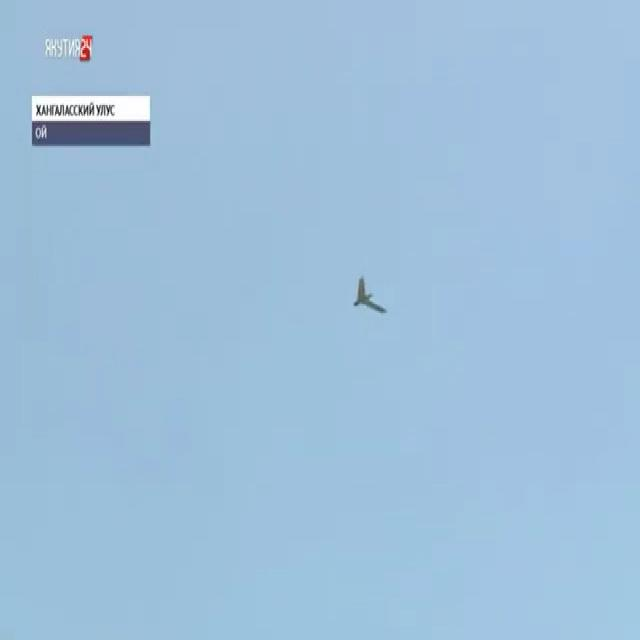drone: (341, 266, 390, 328)
